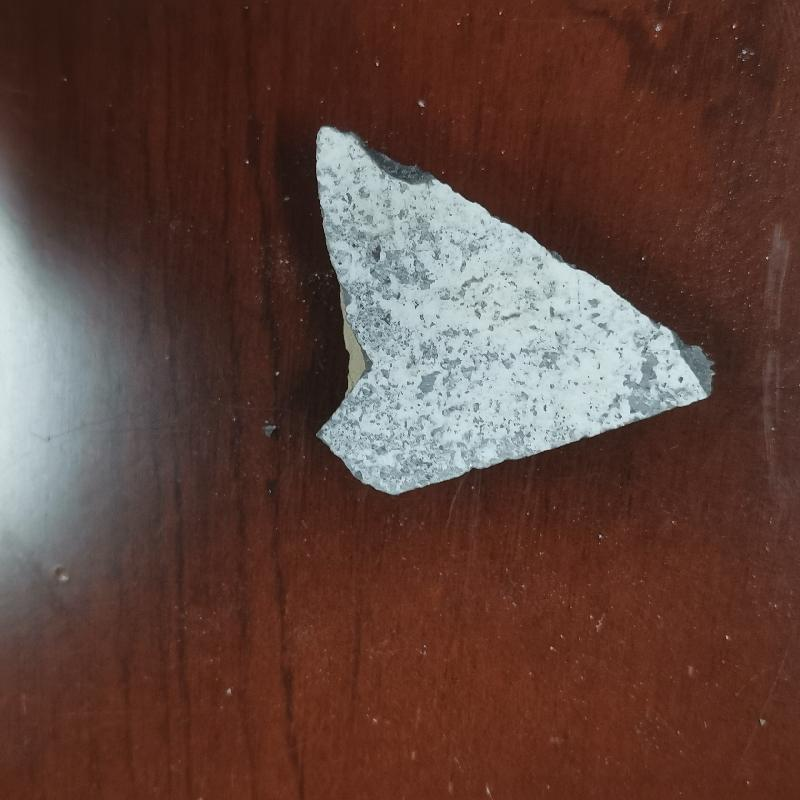tile: (288, 123, 713, 501)
